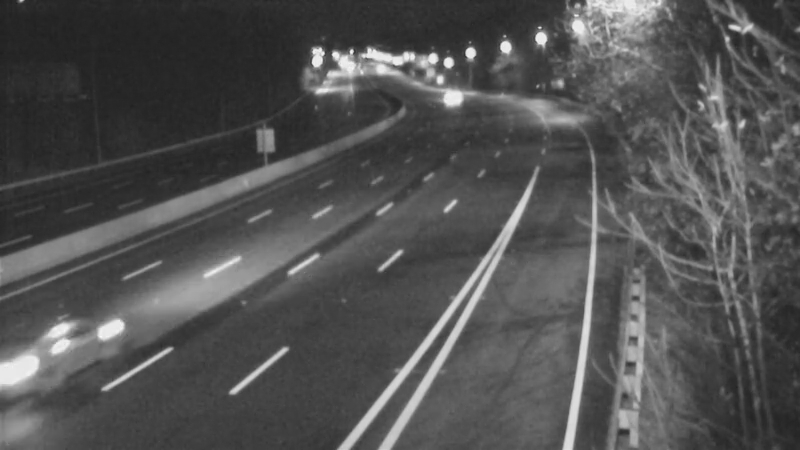vehicle: (1, 299, 111, 409), (422, 71, 472, 121)
